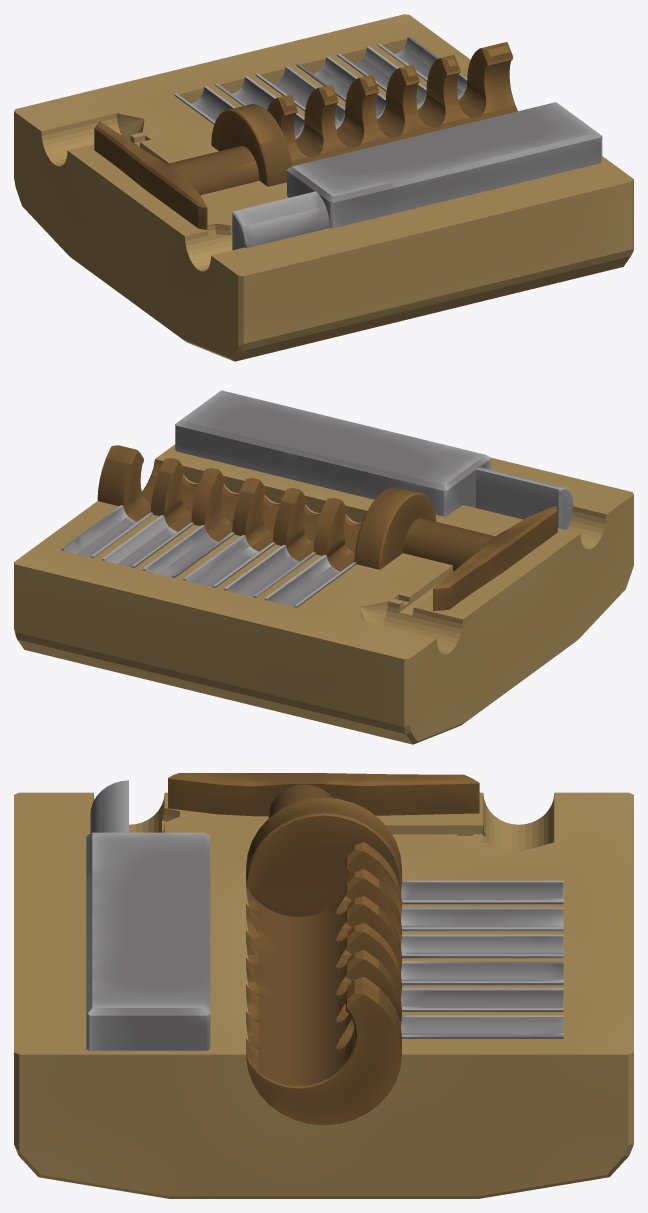
Rendered from Schloss_smooth_without.glb.
3 renders of one model, top to bottom at view 1: azimuth 30°, elevation 25°; view 2: azimuth 150°, elevation 25°; view 3: azimuth 270°, elevation 25°, orthographic. The views are drawn at different scales.
Parts seen in each view (by area): view 1: Cube.010, Cylinder.010, Cylinder.004, Cylinder.001, Cube.001, Cylinder.002; view 2: Cube.010, Cylinder.010, Cylinder.004, Cylinder.001, Cube.001, Cylinder.002; view 3: Cube.010, Cylinder.004, Cylinder.010, Cylinder.001, Cube.001, Cylinder.002.
Part boxes in pixels (x1,y1,x2,y2): Cube.010: (14, 14, 633, 361); Cylinder.010: (232, 102, 602, 250); Cylinder.004: (211, 42, 517, 186); Cylinder.001: (174, 36, 467, 138); Cube.001: (94, 121, 207, 229); Cylinder.002: (167, 146, 259, 195); Cube.010: (14, 444, 633, 744); Cylinder.010: (175, 390, 573, 529); Cylinder.004: (97, 445, 436, 571); Cylinder.001: (61, 505, 356, 607); Cube.001: (433, 506, 557, 610); Cylinder.002: (403, 518, 495, 571); Cube.010: (14, 792, 633, 1198); Cylinder.004: (246, 797, 401, 1125); Cylinder.010: (86, 780, 210, 1050); Cylinder.001: (401, 880, 563, 1038); Cube.001: (168, 773, 479, 816); Cylinder.002: (268, 784, 332, 817).
Size of the model in its own units: 1.75 by 0.6763 by 1.75.
Materials: 3 (3 with a texture image).
